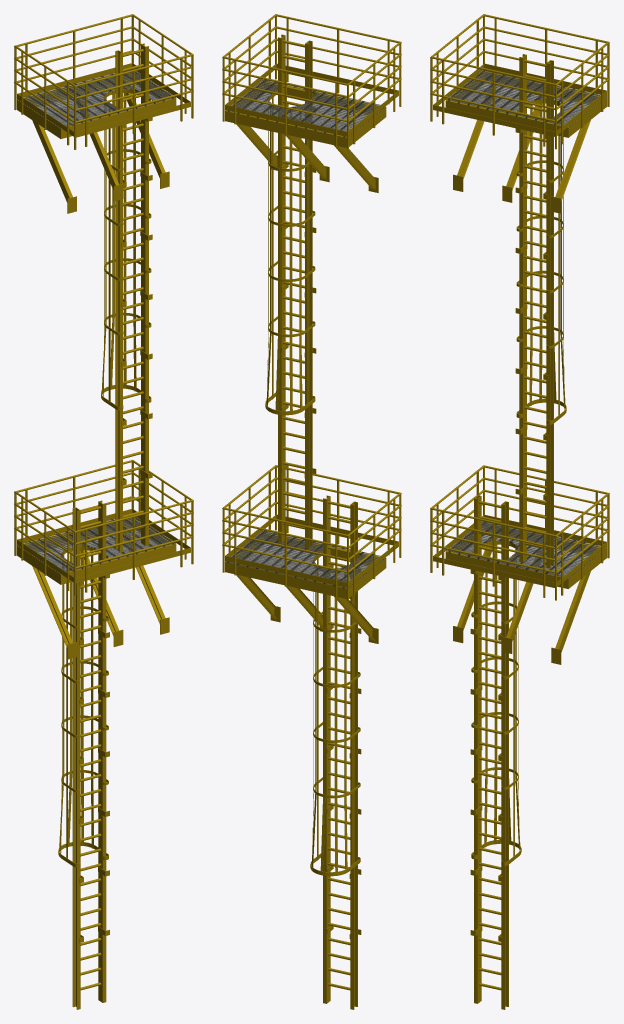
3 views of the same model, side by side, from view 1: azimuth 30°, elevation 25°; view 2: azimuth 150°, elevation 25°; view 3: azimuth 330°, elevation 25° (orthographic).
Visible parts, largest first — view 1: ScaffoldTop, ScaffoldBottom; view 2: ScaffoldTop, ScaffoldBottom; view 3: ScaffoldTop, ScaffoldBottom.
Boxes of the visible parts, box(x1,y1,x2,y2) form: ScaffoldTop: box(14, 14, 193, 552); ScaffoldBottom: box(14, 460, 193, 1009); ScaffoldTop: box(222, 14, 401, 548); ScaffoldBottom: box(222, 465, 401, 1009); ScaffoldTop: box(430, 14, 609, 568); ScaffoldBottom: box(430, 465, 609, 1009).
Bounding box in the file's own units: 2.66 × 19.04 × 2.18.
2 materials, 1 textured.
